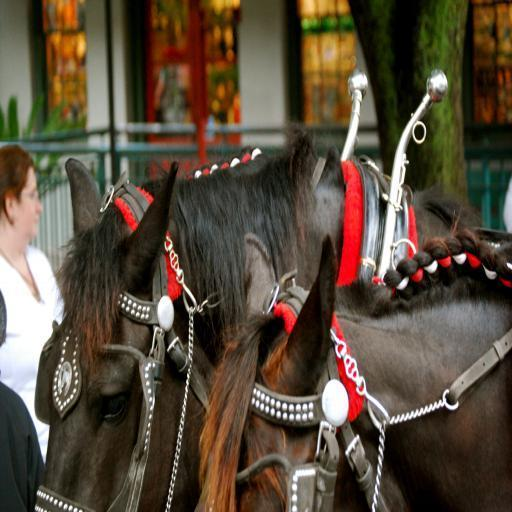horse: (32, 156, 478, 512), (194, 234, 512, 512)
